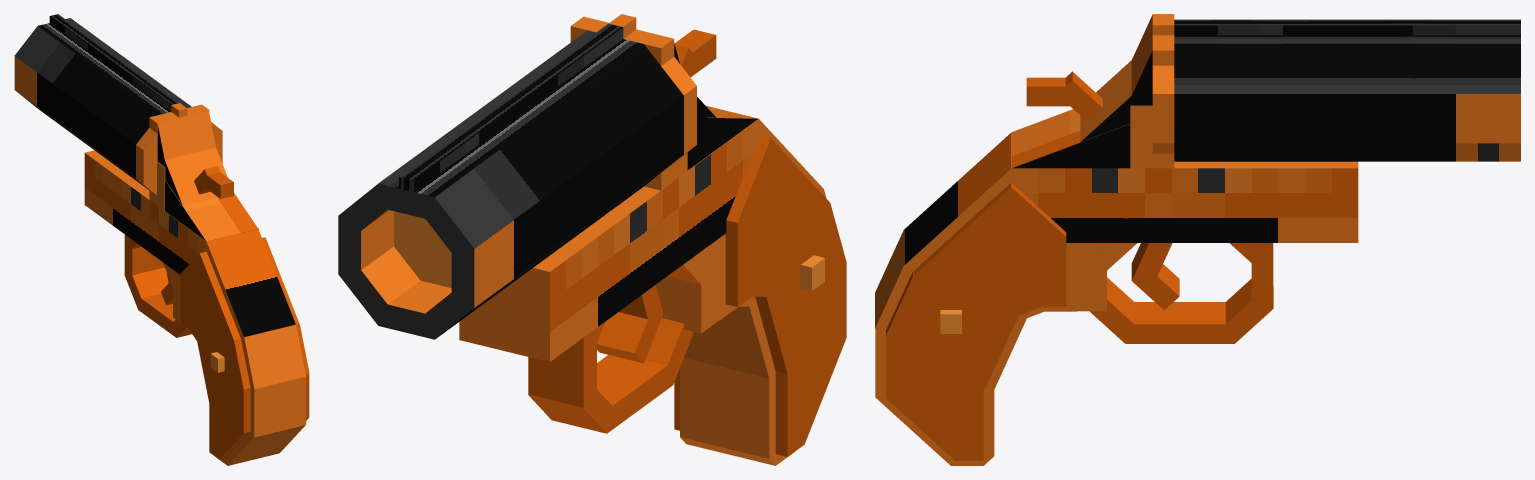
The model's file is mteg_flare_gun.glb.
3 views of the same model, side by side, from view 1: azimuth 30°, elevation 25°; view 2: azimuth 150°, elevation 25°; view 3: azimuth 270°, elevation 25° (orthographic). The views are drawn at different scales.
Parts seen in each view (by area): view 1: Gun; view 2: Gun; view 3: Gun.
Boxes of the visible parts, x1,y1,x2,y2 form: Gun: [14, 14, 309, 465]; Gun: [338, 14, 846, 465]; Gun: [875, 14, 1520, 465].
Bounding box in the file's own units: 0.0751 × 0.2708 × 0.3726.
1 material, 1 textured.
